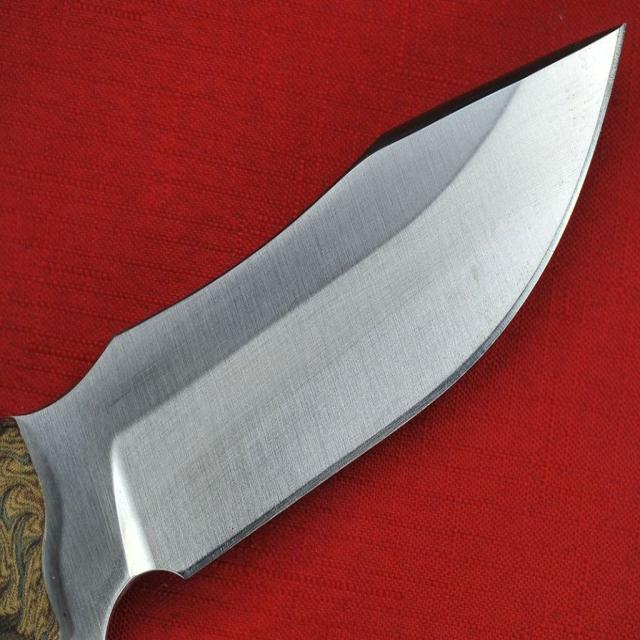Knife: (0, 28, 622, 639)
